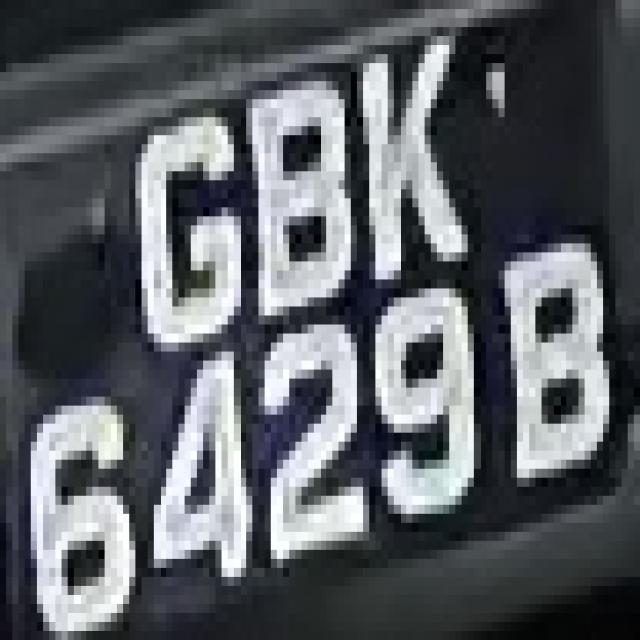2: (246, 315, 382, 577)
4: (142, 324, 270, 622)
6: (0, 5, 2, 9)
9: (357, 288, 486, 550)
B: (474, 243, 621, 514), (234, 72, 357, 334)
G: (111, 90, 252, 379)
K: (344, 27, 474, 288)
